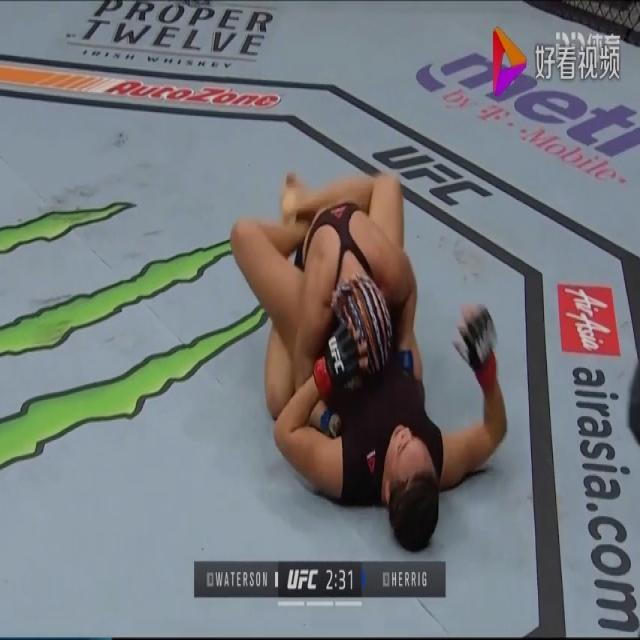fight: (222, 151, 518, 552)
